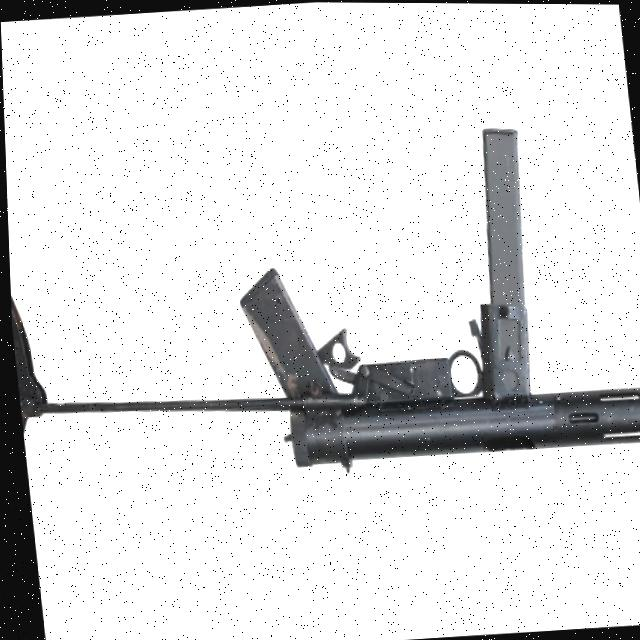firearm: (3, 117, 640, 498)
